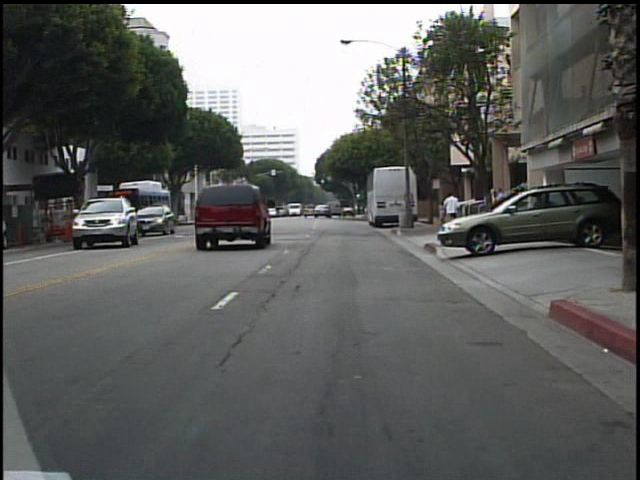person: (440, 189, 461, 237)
